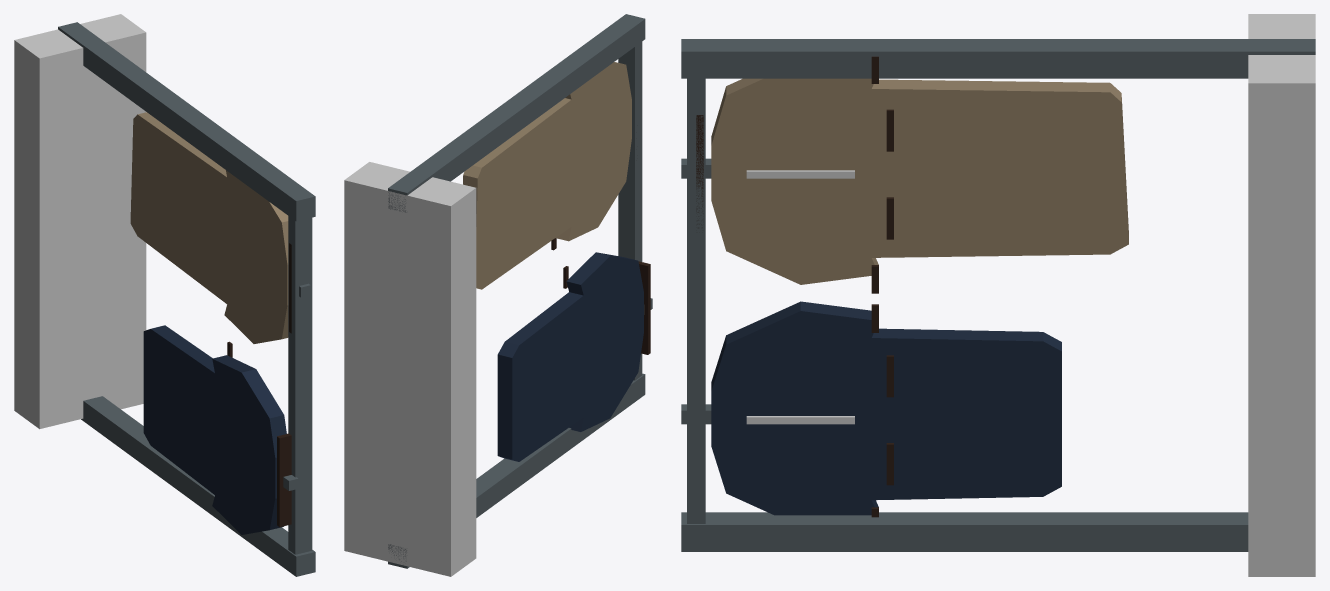
The model's file is SM_BSW_StockWing_Short_A.obj.
3 views of the same model, side by side, from view 1: azimuth 30°, elevation 25°; view 2: azimuth 150°, elevation 25°; view 3: azimuth 270°, elevation 25° (orthographic). The views are drawn at different scales.
Parts seen in each view (by area): view 1: SM_BSW_StockWing_Short_A; view 2: SM_BSW_StockWing_Short_A; view 3: SM_BSW_StockWing_Short_A.
Part boxes in pixels (x1,y1,x2,y2): SM_BSW_StockWing_Short_A: (14,14,315,576); SM_BSW_StockWing_Short_A: (344,14,652,576); SM_BSW_StockWing_Short_A: (681,14,1315,576).
Bounding box in the file's own units: 44 × 148 × 170.
